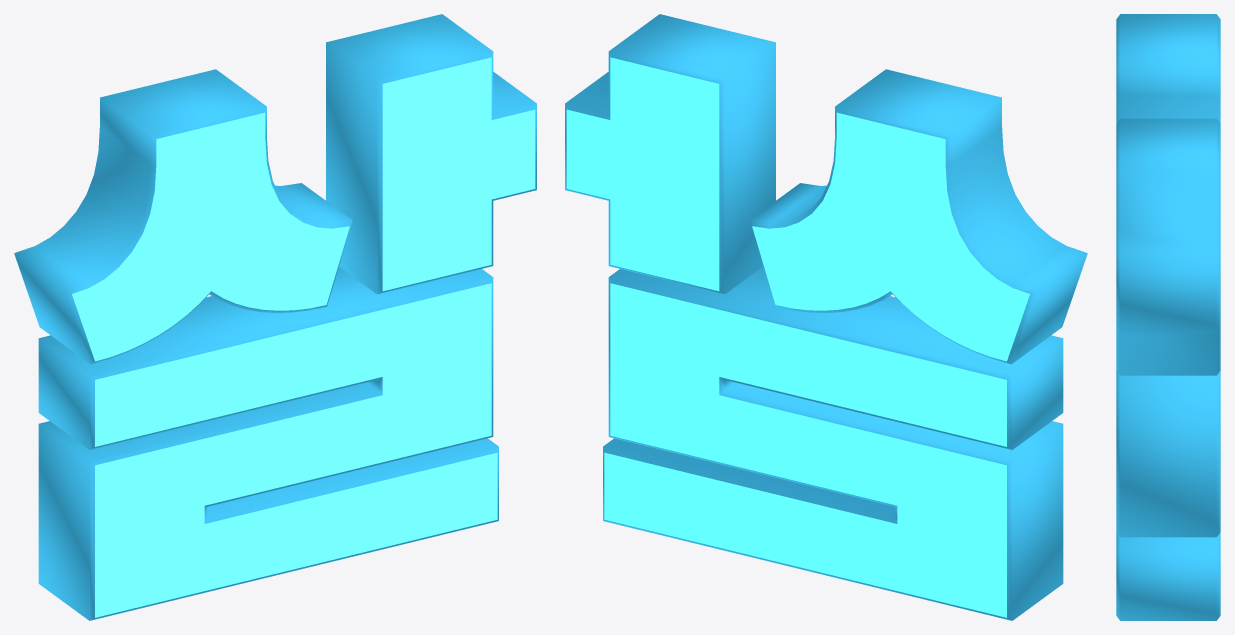
3 views of the same model, side by side, from view 1: azimuth 30°, elevation 25°; view 2: azimuth 150°, elevation 25°; view 3: azimuth 270°, elevation 25° (orthographic). The views are drawn at different scales.
Visible parts, largest first — view 1: glyph; view 2: glyph; view 3: glyph.
Part boxes in pixels (x1,y1,x2,y2): glyph: (14,14,536,620); glyph: (565,14,1087,620); glyph: (1116,14,1220,620).
Size of the model in its own units: 0.0803 by 0.0766 by 0.0162.
